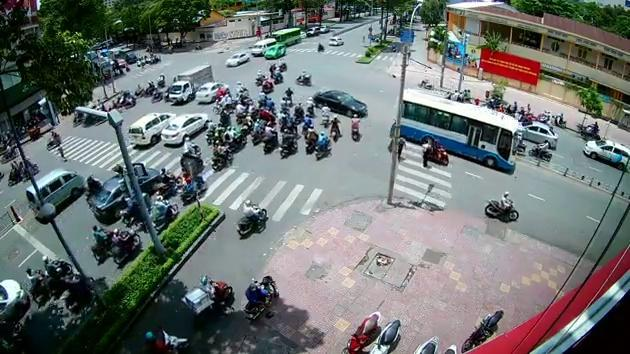xe buyt: (399, 88, 518, 172)
xe hoi: (87, 166, 160, 220), (159, 111, 210, 144), (312, 89, 367, 118), (127, 111, 174, 144), (582, 139, 630, 170), (518, 120, 558, 147), (194, 81, 229, 101), (223, 51, 250, 66)
xe may: (234, 199, 266, 236), (484, 189, 519, 221), (278, 127, 299, 157), (261, 119, 278, 153), (313, 130, 332, 159), (349, 113, 359, 142)
xe tai: (168, 62, 213, 101)
xe van: (24, 166, 84, 215)
